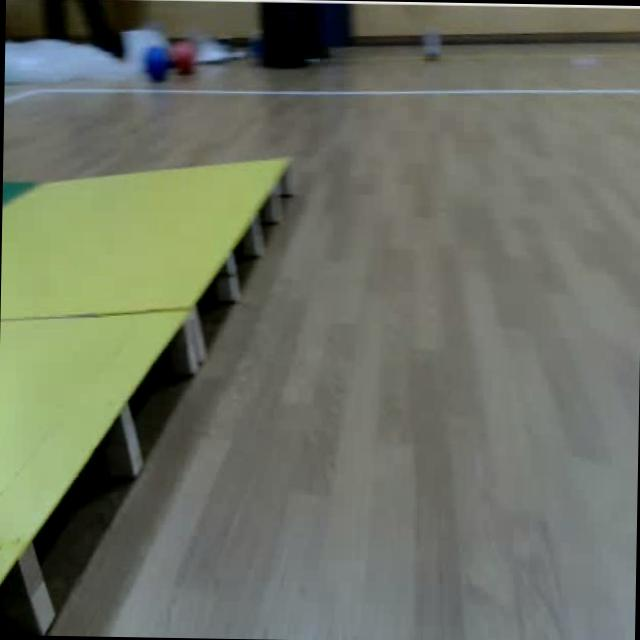blue_ball: (142, 42, 169, 82)
red_ball: (171, 40, 197, 76)
